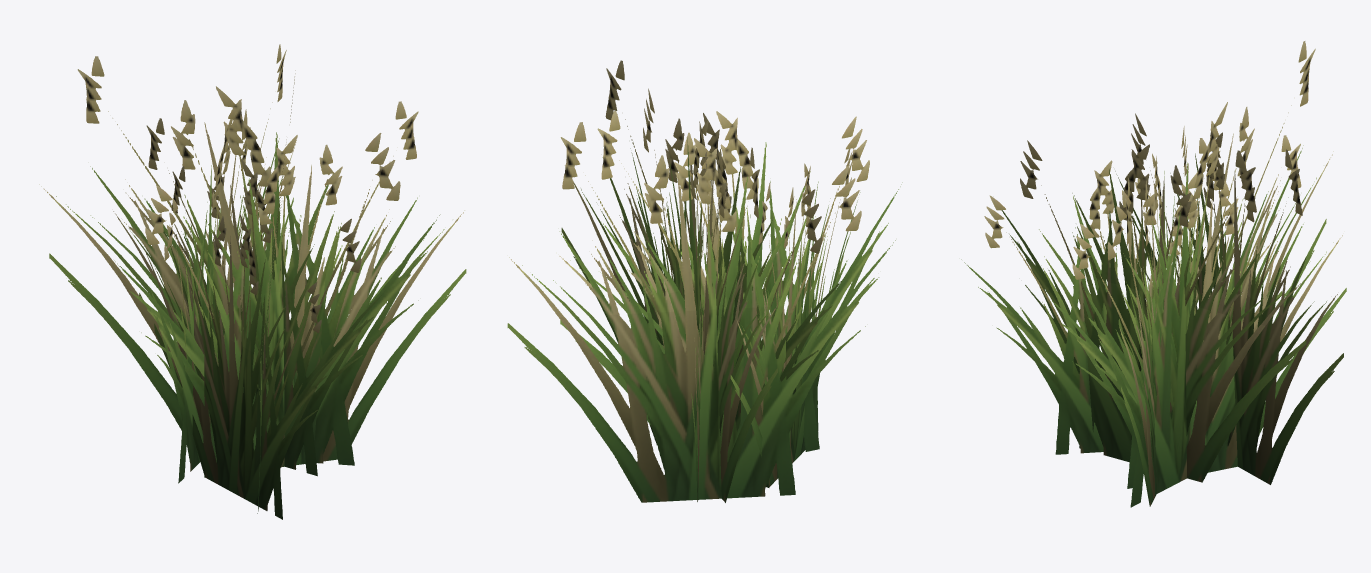
Rendered from grass_b.glb.
3 renders of one model, left to right at view 1: azimuth 30°, elevation 25°; view 2: azimuth 150°, elevation 25°; view 3: azimuth 270°, elevation 25°, orthographic. The views are drawn at different scales.
Visible parts, largest first — view 1: grass_b_mesh; view 2: grass_b_mesh; view 3: grass_b_mesh.
Part boxes in pixels (x1,y1,x2,y2): grass_b_mesh: (39, 44, 466, 519); grass_b_mesh: (507, 60, 902, 502); grass_b_mesh: (961, 41, 1346, 507).
Bounding box in the file's own units: 0.7025 × 0.7731 × 0.75.
Materials: 1 (1 with a texture image).
